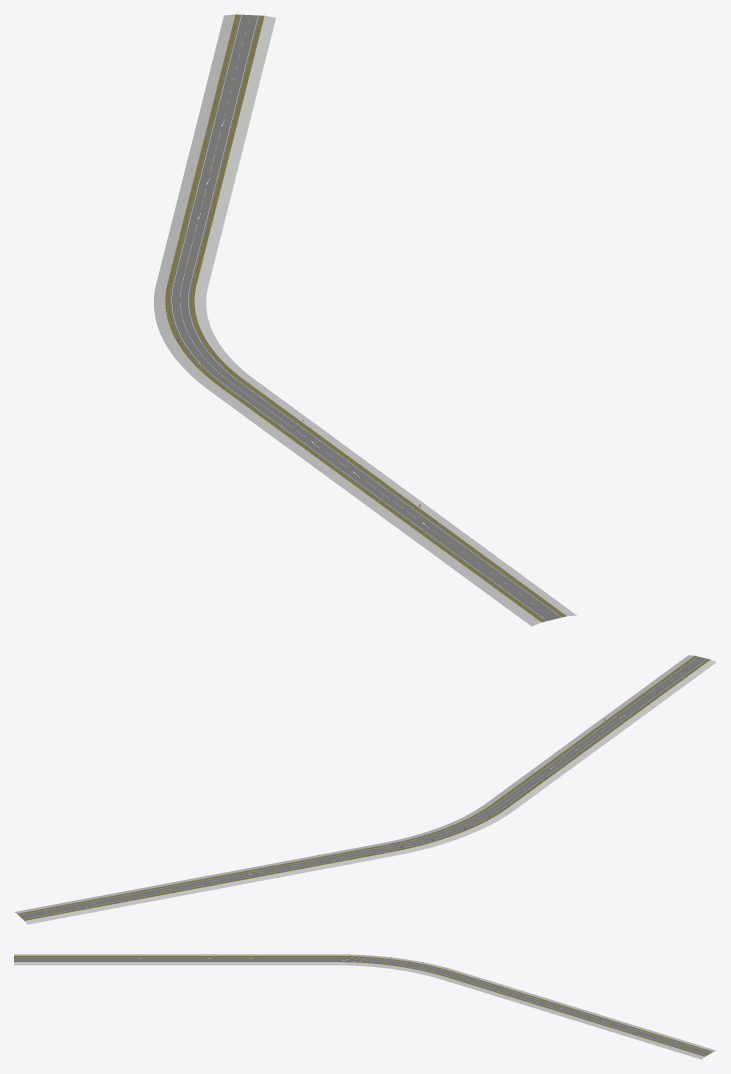
3 renders of one model, top to bottom at view 1: azimuth 30°, elevation 25°; view 2: azimuth 150°, elevation 25°; view 3: azimuth 270°, elevation 25°, orthographic. The views are drawn at different scales.
Parts seen in each view (by area): view 1: SketchUp (×7); view 2: SketchUp (×7); view 3: SketchUp (×7).
Part boxes in pixels (<box>): SketchUp (×7): <box>154,14,576,626</box>; SketchUp (×7): <box>14,655,716,924</box>; SketchUp (×7): <box>14,954,716,1059</box>.
Size of the model in its own units: 8504 by 23974 by 155.
